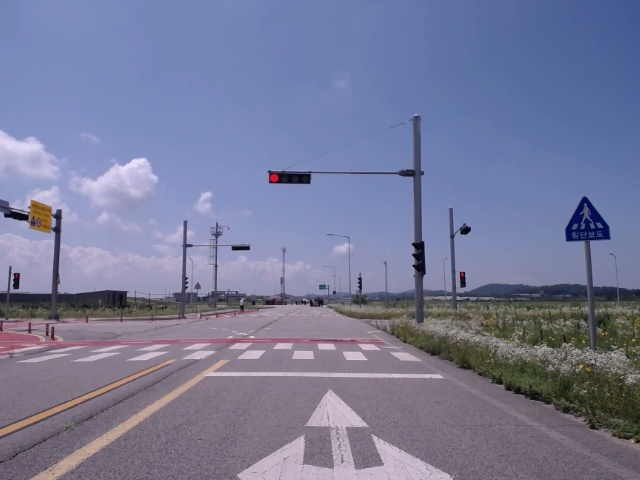red_4: (269, 173, 311, 184)
